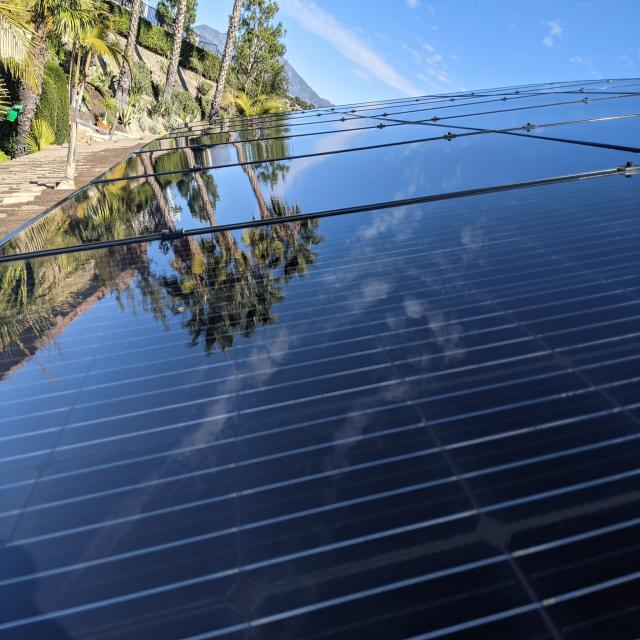clean-solar-panel: (1, 80, 640, 638)
